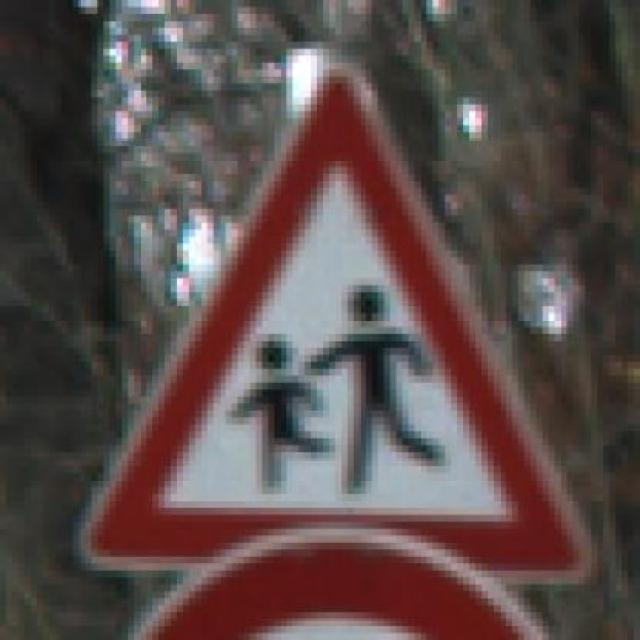Beware of children: (73, 49, 610, 598)
